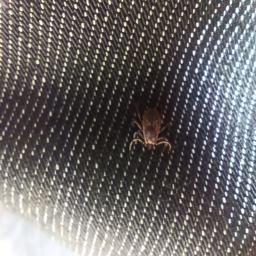Rhipicephalus sanguineus: (128, 106, 173, 152)
